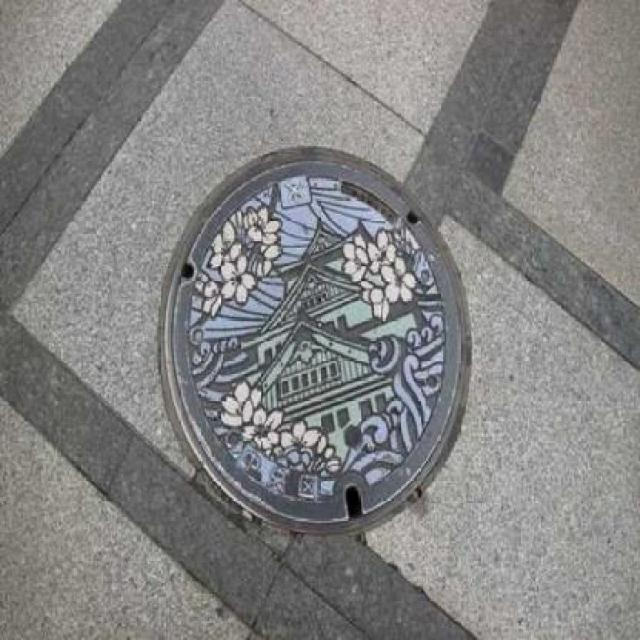Manhole: (145, 141, 504, 548)
